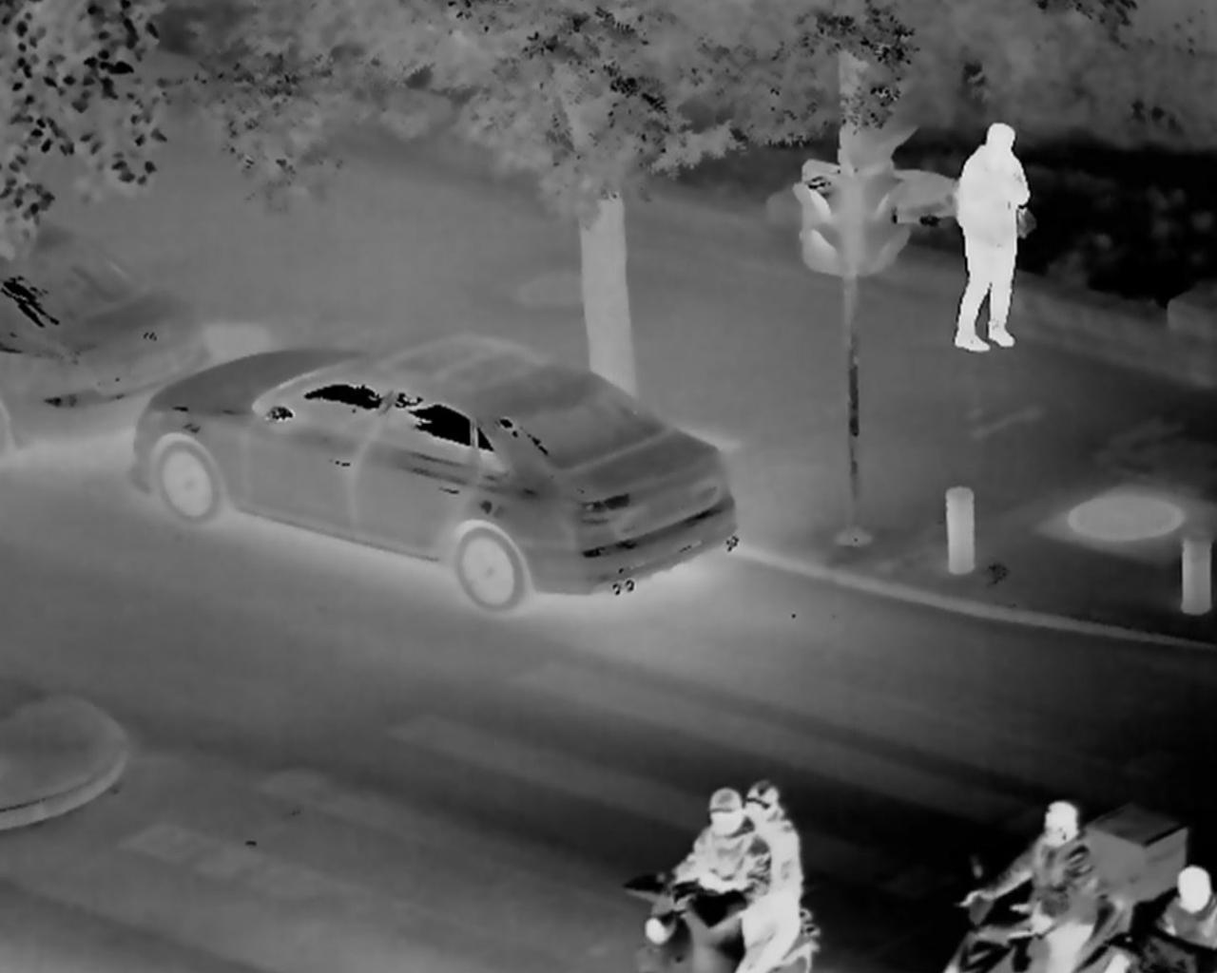person: (928, 110, 1033, 374), (658, 790, 753, 967), (997, 801, 1086, 973), (743, 784, 802, 973), (1148, 862, 1212, 973)
